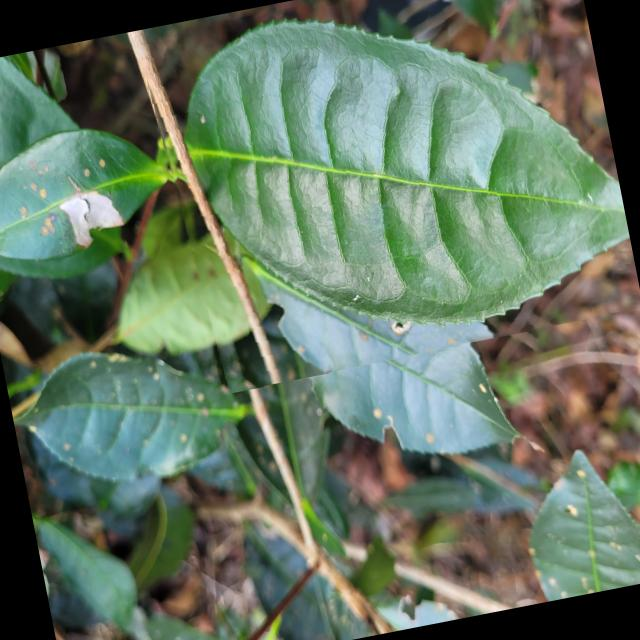Category D(7+ days, Not for Tea): (135, 0, 640, 397)
